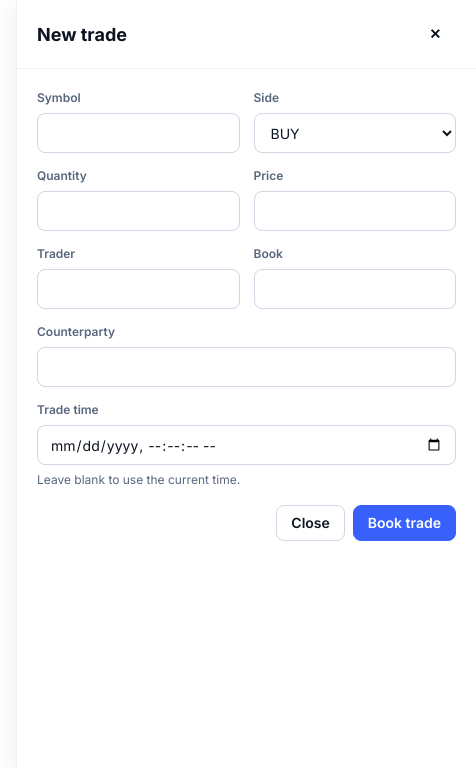
Scenario: TradeForm › shows a message for each missing field and does not submit
Step 1. Click the button "Book trade" → (404,523), box [353,505,456,541]
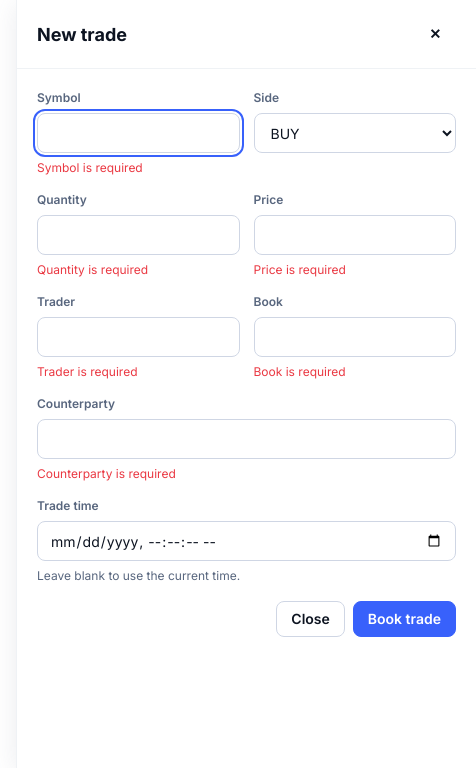
Check: the text "Symbol is required" is shown, box [37,160,143,175]
Check: the text "Price is required" is shown, box [254,262,346,277]
